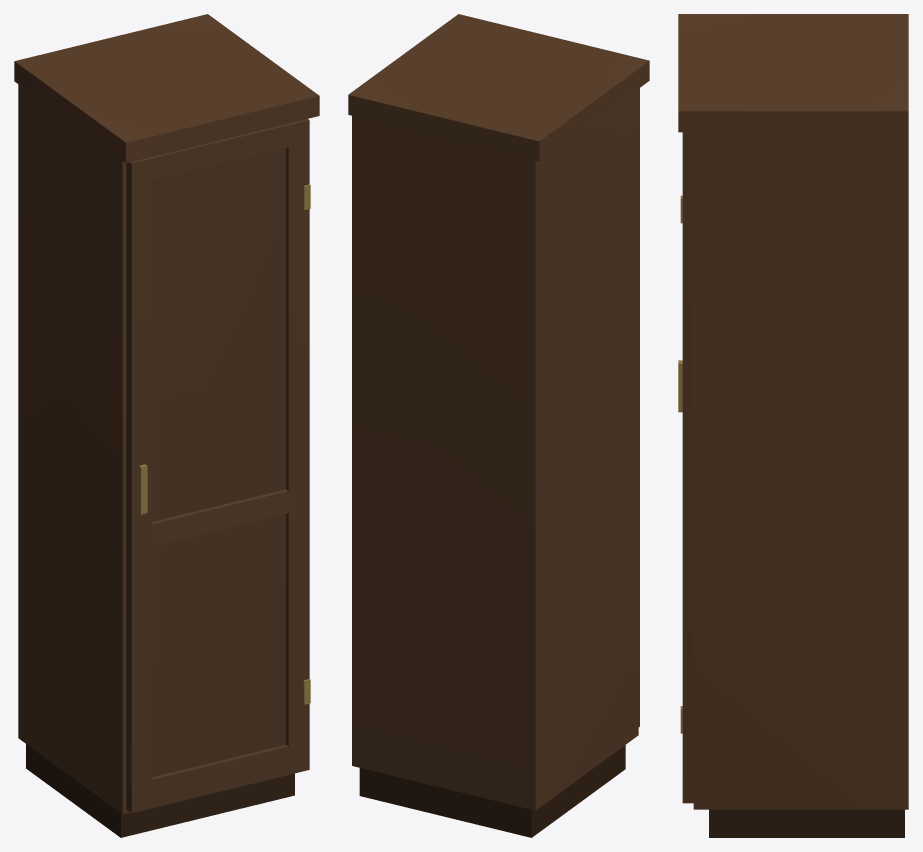
The model's file is cabinet.closet.walnut.glb.
3 renders of one model, left to right at view 1: azimuth 30°, elevation 25°; view 2: azimuth 150°, elevation 25°; view 3: azimuth 270°, elevation 25°, orthographic. The views are drawn at different scales.
Parts seen in each view (by area): view 1: cabinet_closet_walnut; view 2: cabinet_closet_walnut; view 3: cabinet_closet_walnut.
Part boxes in pixels (<box>): cabinet_closet_walnut: <box>14,14,319,837</box>; cabinet_closet_walnut: <box>348,14,649,837</box>; cabinet_closet_walnut: <box>678,14,908,837</box>.
Size of what is drawn, in the model's own units: 0.6 by 2.1 by 0.6.
